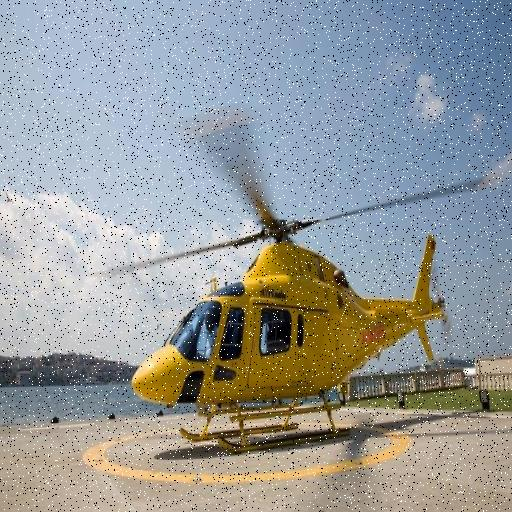helicopter: (86, 95, 500, 461)
